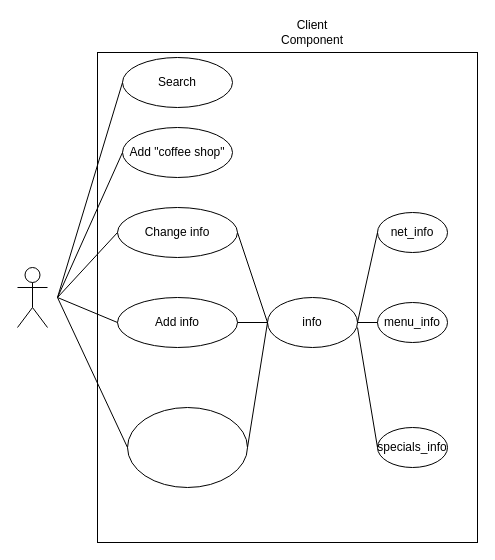
Image size: 495x560. Some labels were removed from this diagram. Each missing label, with the box of its shape:
See info: (126, 406, 248, 488)
User: (16, 266, 48, 328)
